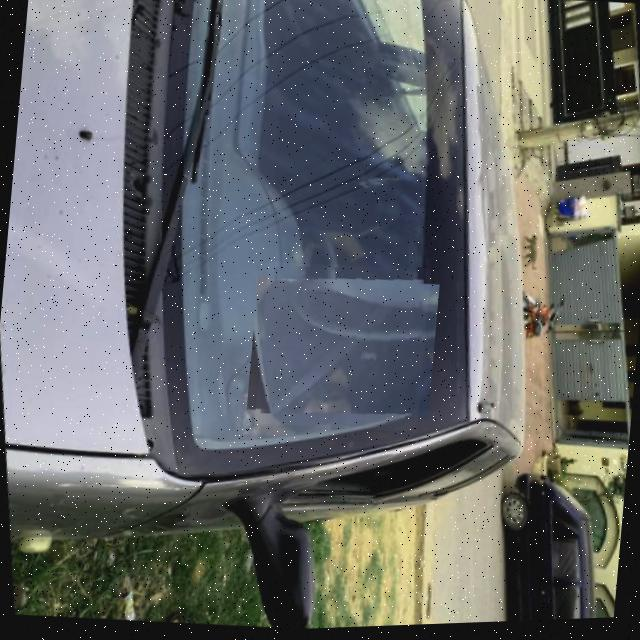seatbelt: (253, 259, 429, 440)
